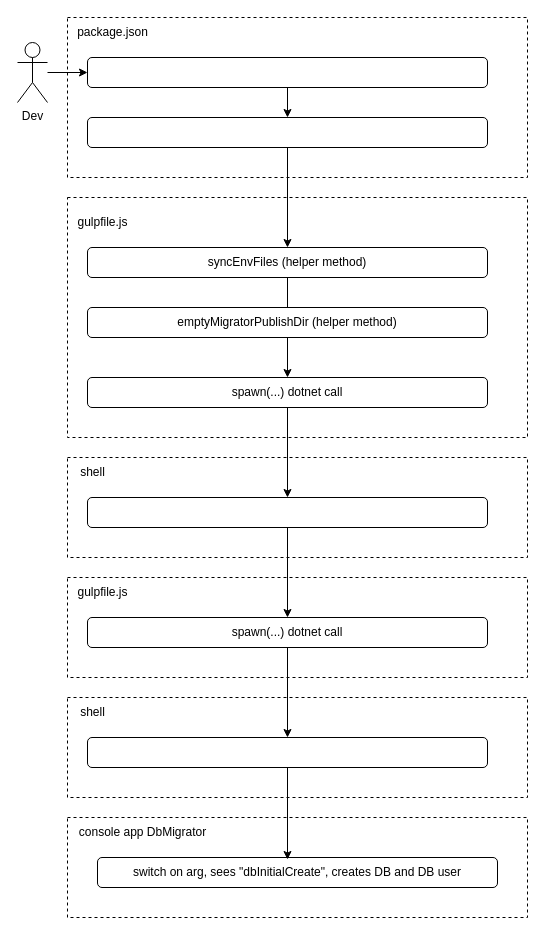
The diagram is 545 pixels wide and 935 high, and some of its shapes have lost their labels. Here are the shapes that lost their labels. From the top down, the centre of each, then its label:
(287,72): npm run dbInitialCreate
(287,132): gulp dbInitialCreate
(287,512): dotnet publish -o publish (inside DbMigrator dir)
(287,752): dotnet publish/DbMigrator.dll dbInitialCreate
